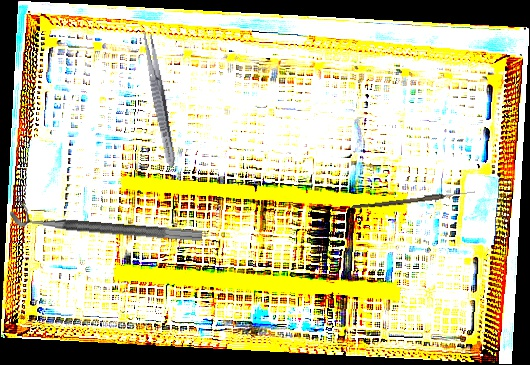Dressing Forceps: (138, 28, 180, 169)
Fixation Ring: (9, 197, 204, 243)
Surgical Spoon: (352, 188, 476, 212)
